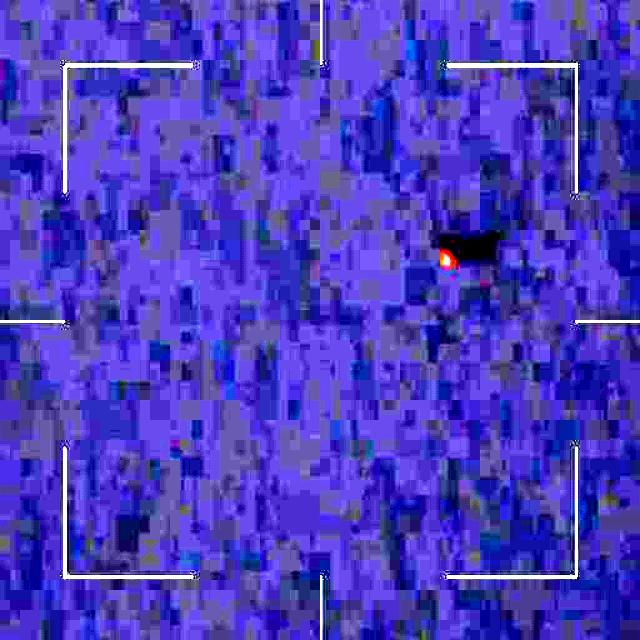bird: (434, 239, 462, 280)
